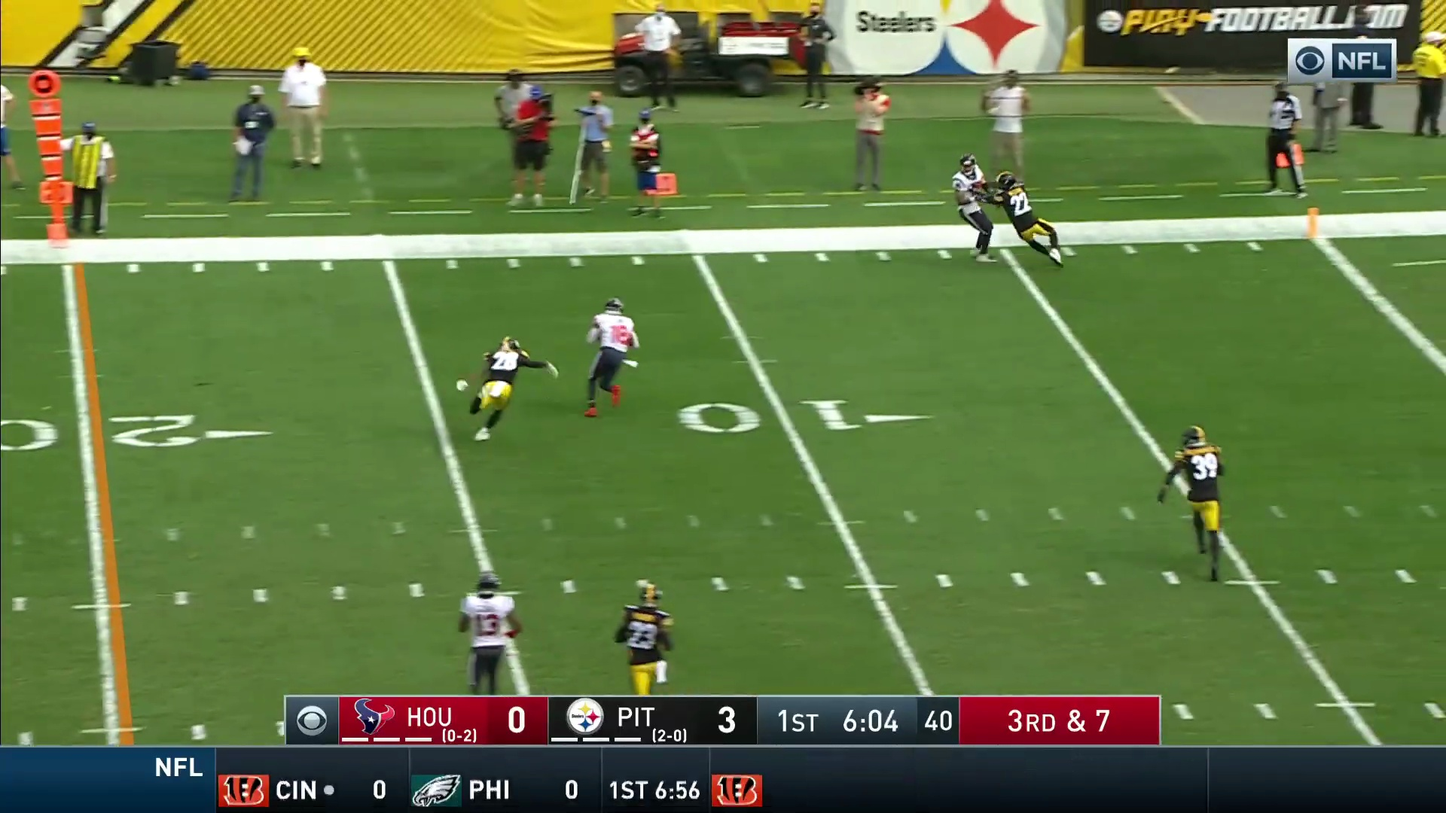Player: (460, 576, 519, 690), (616, 580, 673, 694), (584, 298, 637, 416), (472, 337, 523, 439), (984, 79, 1028, 180), (953, 154, 993, 259)
